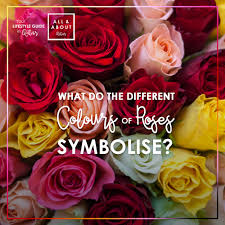lale: (26, 147, 119, 217), (0, 36, 64, 118), (49, 15, 129, 75), (111, 126, 173, 184), (111, 79, 186, 124), (133, 15, 187, 73), (156, 152, 214, 205), (88, 182, 157, 225), (183, 52, 225, 93)
